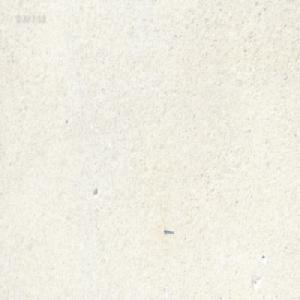Nail: (163, 226, 173, 234)
